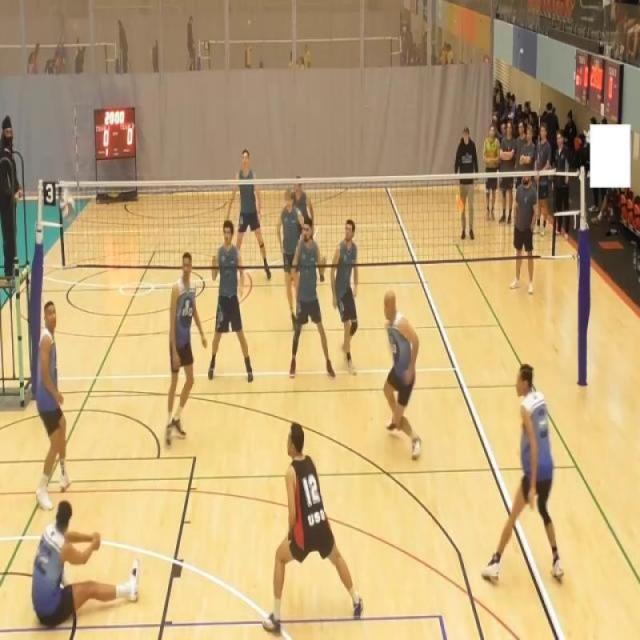volleyball: (59, 188, 76, 220)
